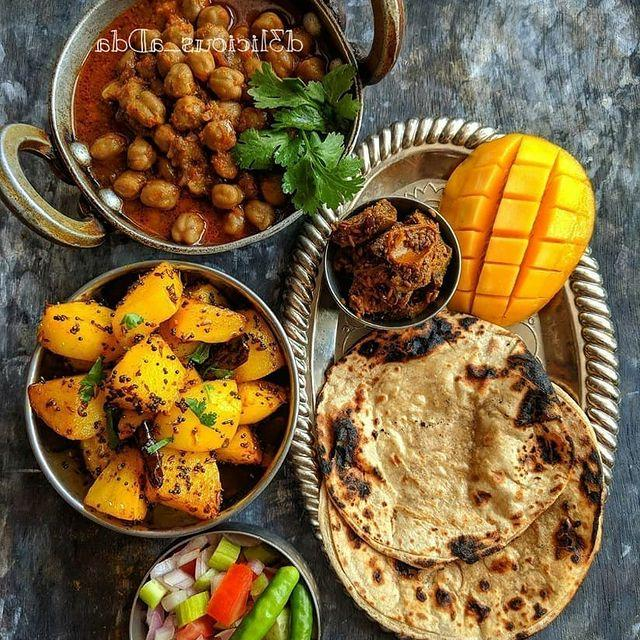Chole: (81, 48, 293, 234)
